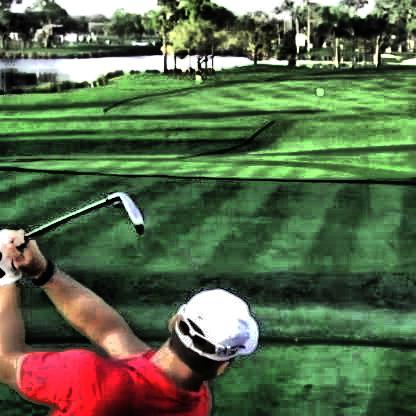golfball: (313, 86, 320, 94)
